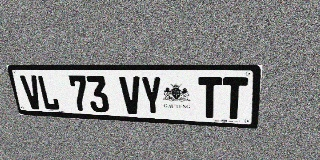3: (86, 76, 110, 113)
7: (67, 76, 91, 112)
L: (36, 75, 60, 110)
T: (222, 77, 248, 120), (198, 77, 222, 119)
V: (119, 76, 142, 115), (20, 75, 44, 110)
Y: (140, 76, 163, 116)
